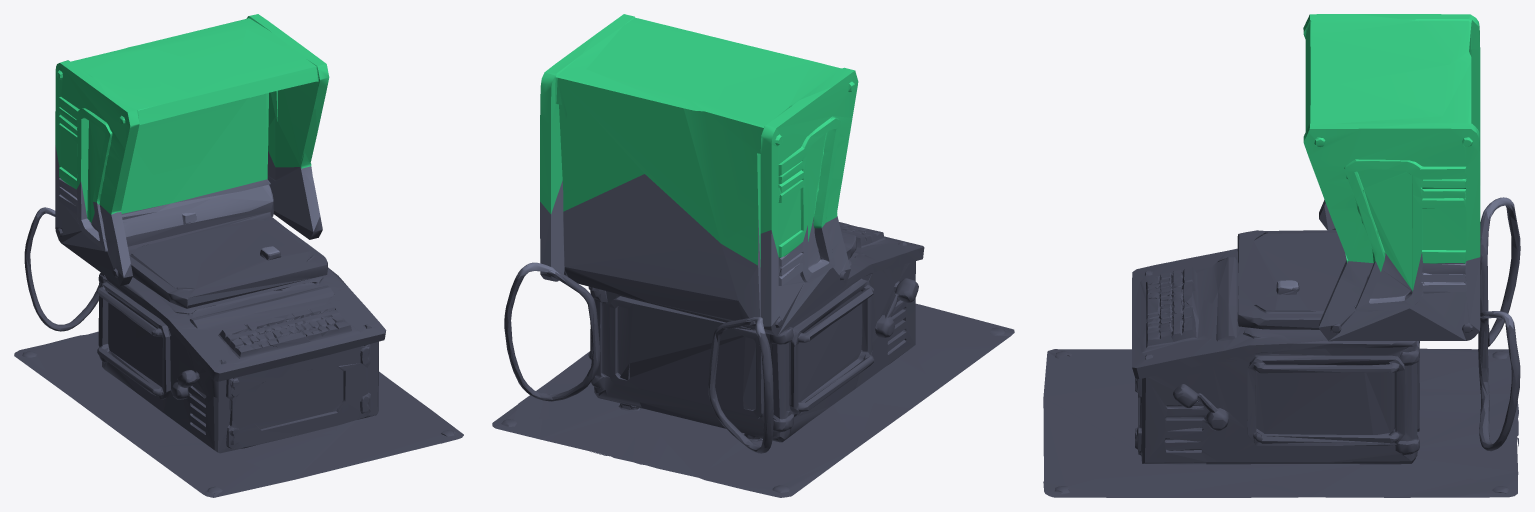
File: landmark_terminal.fbx
The picture shows the model from 3 angles, left to right: view 1: azimuth 30°, elevation 25°; view 2: azimuth 150°, elevation 25°; view 3: azimuth 270°, elevation 25°; orthographic projection. The views are drawn at different scales.
Visible parts, largest first — view 1: landmark_terminal; view 2: landmark_terminal; view 3: landmark_terminal.
Boxes of the visible parts, bbox=[...] form: landmark_terminal: bbox=[14, 14, 463, 497]; landmark_terminal: bbox=[492, 14, 1014, 497]; landmark_terminal: bbox=[1043, 14, 1520, 497].
Bounding box in the file's own units: 1.4 × 1.55 × 1.9.
